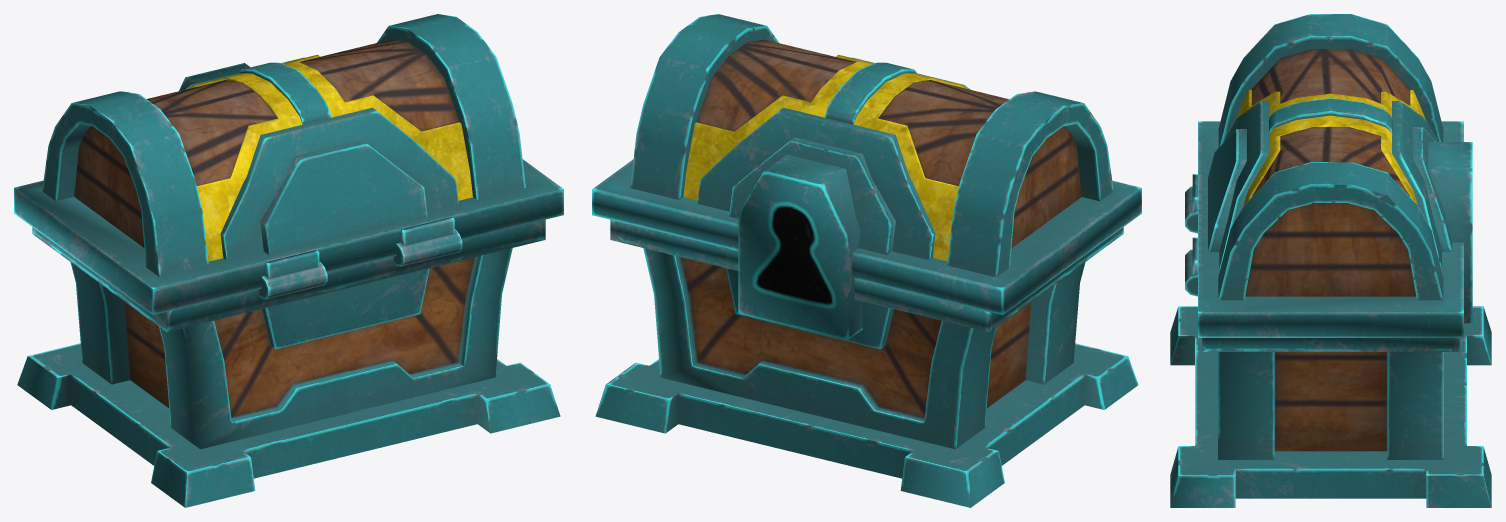
The model's file is cartoon.glb.
The picture shows the model from 3 angles, left to right: view 1: azimuth 30°, elevation 25°; view 2: azimuth 150°, elevation 25°; view 3: azimuth 270°, elevation 25°; orthographic projection. The views are drawn at different scales.
Parts seen in each view (by area): view 1: Mi_Cylindre_Left_low, Chest_low, Plateforme_low, in_chest_low; view 2: Mi_Cylindre_Left_low, Chest_low, Plateforme_low, in_chest_low; view 3: Mi_Cylindre_Left_low, Chest_low, Plateforme_low, in_chest_low.
Part boxes in pixels (<box>): Mi_Cylindre_Left_low: <box>14,14,563,314</box>; Chest_low: <box>70,248,512,449</box>; Plateforme_low: <box>17,343,560,507</box>; in_chest_low: <box>32,219,545,332</box>; Mi_Cylindre_Left_low: <box>592,14,1141,340</box>; Chest_low: <box>643,248,1085,449</box>; Plateforme_low: <box>595,343,1138,507</box>; in_chest_low: <box>610,219,1123,332</box>; Mi_Cylindre_Left_low: <box>1185,14,1472,337</box>; Chest_low: <box>1218,352,1443,459</box>; Plateforme_low: <box>1170,306,1491,507</box>; in_chest_low: <box>1202,338,1459,351</box>.
Size of the model in its own units: 0.1619 by 0.1253 by 0.1146.
Materials: 1 (1 with a texture image).
